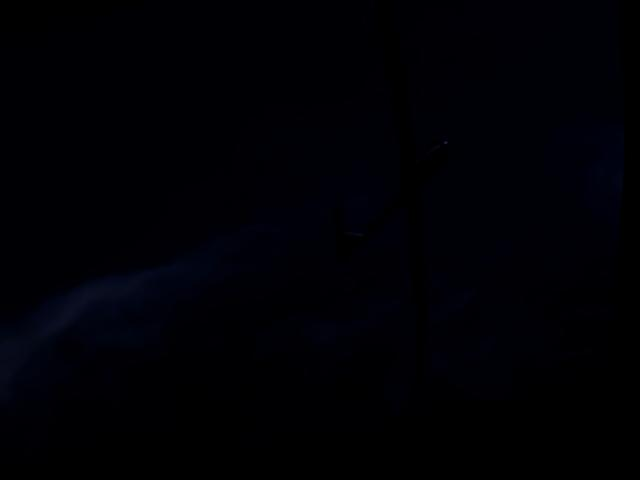iha: (296, 0, 489, 412)
